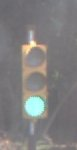Green: (17, 40, 53, 126)
